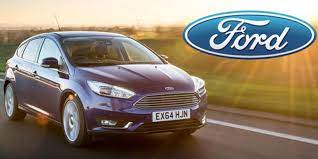Ford: (3, 29, 208, 144)
